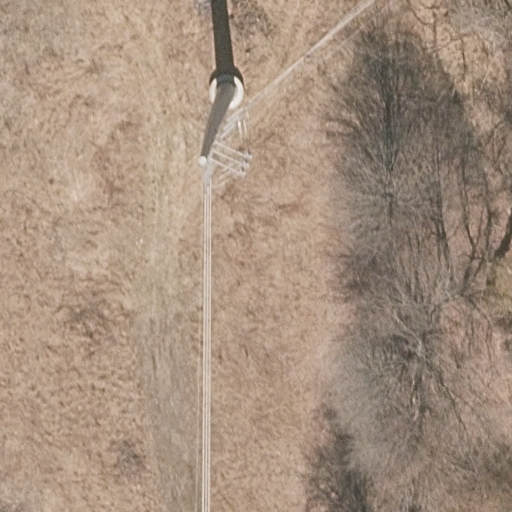TT: (197, 72, 253, 177)
